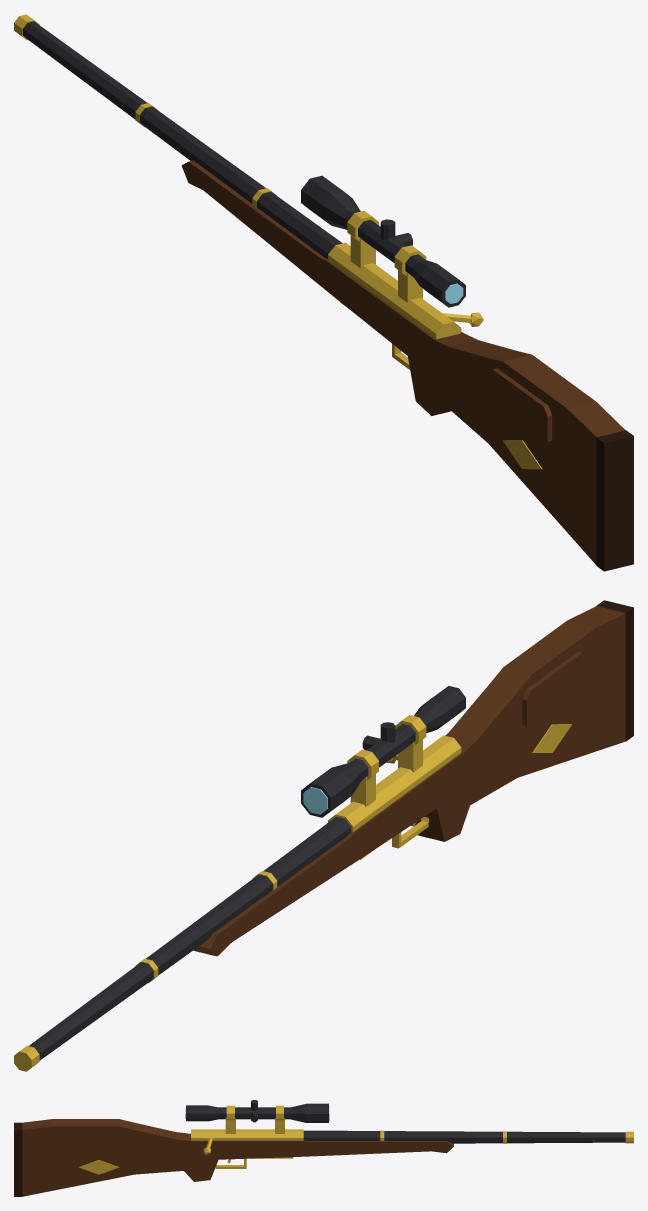
The model's file is Royal.glb.
The picture shows the model from 3 angles, top to bottom: view 1: azimuth 30°, elevation 25°; view 2: azimuth 150°, elevation 25°; view 3: azimuth 270°, elevation 25°; orthographic projection. The views are drawn at different scales.
Parts seen in each view (by area): view 1: Stock, Barrel, Pad, Scope, Body, Mount, Accent; view 2: Stock, Barrel, Scope, Body, Mount, Pad, Accent; view 3: Stock, Barrel, Scope, Body, Pad, Mount, Accent.
Part boxes in pixels (<box>): Stock: <box>181,160,625,564</box>; Barrel: <box>22,21,342,258</box>; Pad: <box>596,430,633,571</box>; Scope: <box>301,175,465,307</box>; Body: <box>328,242,461,339</box>; Mount: <box>347,211,426,302</box>; Accent: <box>135,103,542,469</box>; Stock: <box>193,606,625,956</box>; Barrel: <box>28,817,351,1060</box>; Scope: <box>301,686,465,817</box>; Body: <box>328,735,461,831</box>; Mount: <box>347,715,426,806</box>; Pad: <box>596,600,633,741</box>; Accent: <box>135,724,571,983</box>; Stock: <box>22,1119,453,1196</box>; Barrel: <box>303,1130,625,1143</box>; Scope: <box>186,1100,328,1122</box>; Body: <box>191,1129,303,1140</box>; Pad: <box>14,1122,22,1196</box>; Mount: <box>225,1105,284,1133</box>; Accent: <box>78,1130,506,1174</box>.
Bounding box in the file's own units: 0.3987 × 0.988 × 6.06.
